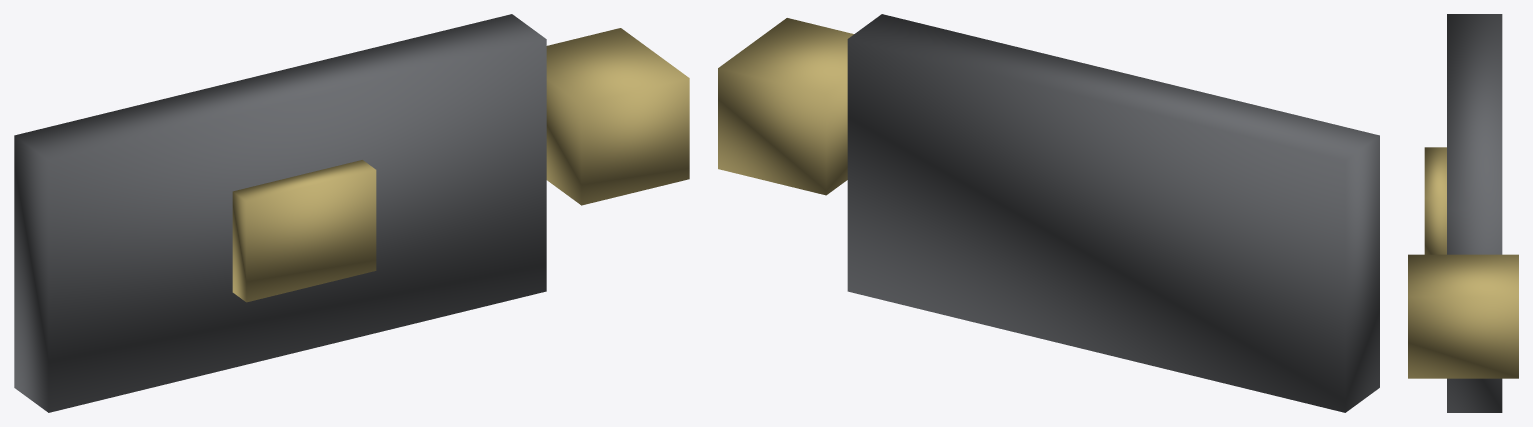
The model's file is floor_indicator_05.glb.
The picture shows the model from 3 angles, left to right: view 1: azimuth 30°, elevation 25°; view 2: azimuth 150°, elevation 25°; view 3: azimuth 270°, elevation 25°; orthographic projection. The views are drawn at different scales.
Parts seen in each view (by area): view 1: world; view 2: world; view 3: world.
Part boxes in pixels (bbox=[...]): world: bbox=[14, 14, 689, 412]; world: bbox=[718, 14, 1379, 412]; world: bbox=[1408, 14, 1518, 412].
Size of the model in its own units: 0.5016 by 0.196 by 0.097.
